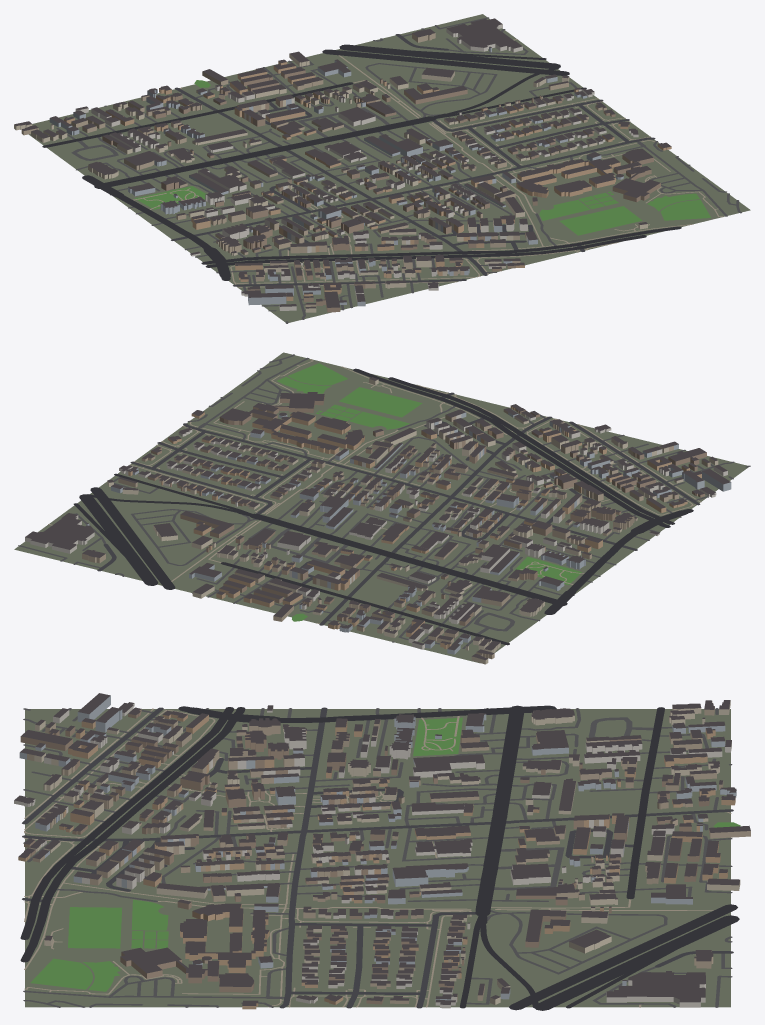
Rendered from city.glb.
3 views of the same model, one above another, from view 1: azimuth 30°, elevation 25°; view 2: azimuth 150°, elevation 25°; view 3: azimuth 270°, elevation 25° (orthographic). The views are drawn at different scales.
Parts seen in each view (by area): view 1: Buildings-col, Ground-col, Roads, Areas; view 2: Buildings-col, Ground-col, Roads, Areas; view 3: Ground-col, Buildings-col, Roads, Areas.
Boxes of the visible parts, x1=… form: Buildings-col: x1=14, y1=18, x2=671, y2=312; Ground-col: x1=28, y1=14, x2=750, y2=322; Roads: x1=42, y1=17, x2=741, y2=323; Areas: x1=134, y1=80, x2=711, y2=235; Buildings-col: x1=25, y1=377, x2=731, y2=664; Ground-col: x1=14, y1=352, x2=748, y2=663; Roads: x1=18, y1=354, x2=750, y2=648; Areas: x1=277, y1=363, x2=581, y2=621; Ground-col: x1=25, y1=709, x2=730, y2=1007; Buildings-col: x1=14, y1=693, x2=750, y2=1009; Roads: x1=20, y1=705, x2=739, y2=1010; Areas: x1=30, y1=717, x2=740, y2=991.
Size of the model in its own units: 827 by 12 by 835.
